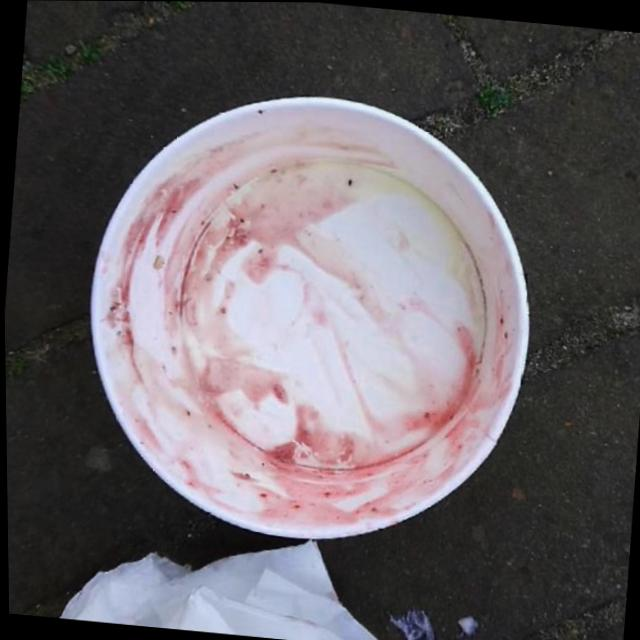Paper: (62, 69, 557, 565)
